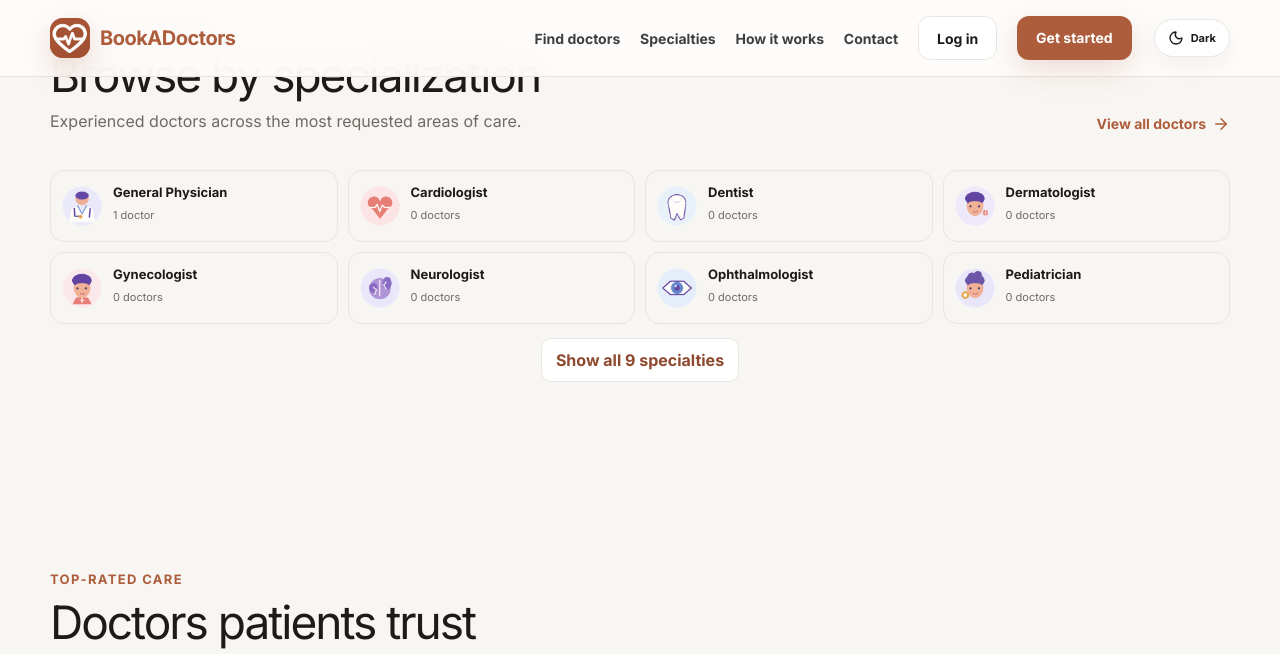
Test: PatientLanding › uses specialty-specific icons and expands the compact catalog
(page scrolled)
Expected: the text "General Physician" is shown, [113,184,227,200]
Click the button "Show all 9 specialties": {"x": 640, "y": 360} [541,338,739,382]
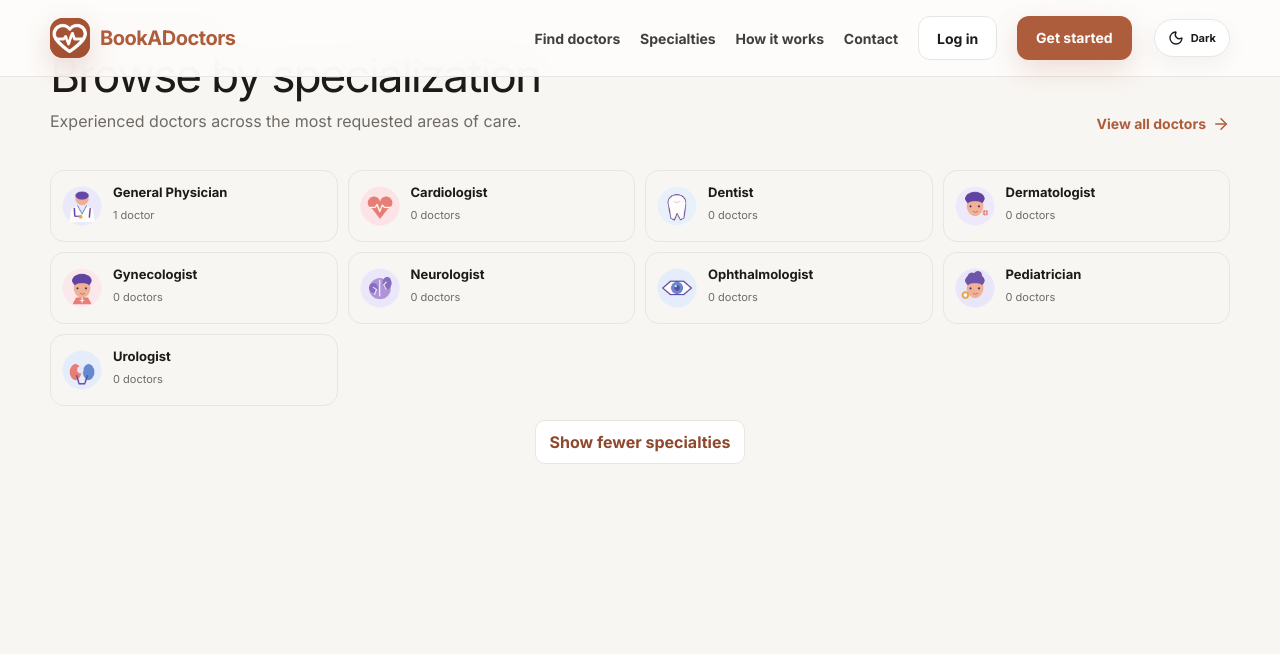
Expected: the link "Urologist 0 doctors" is shown, [50,334,338,406]
